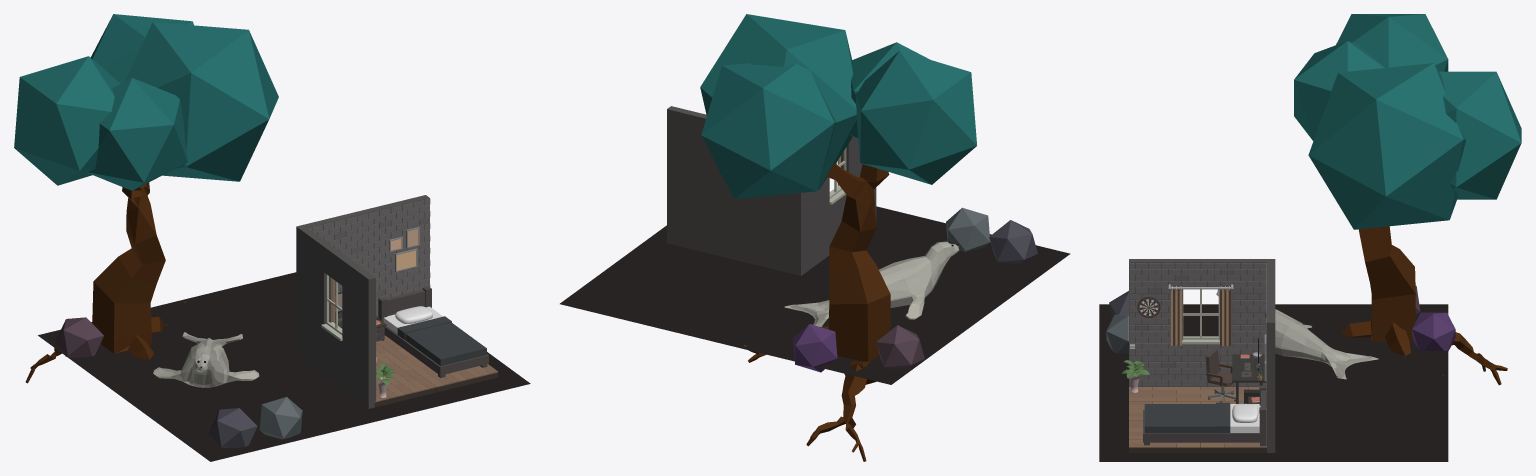
Rendered from IsolationRoom.gltf.
3 views of the same model, side by side, from view 1: azimuth 30°, elevation 25°; view 2: azimuth 150°, elevation 25°; view 3: azimuth 270°, elevation 25° (orthographic). The views are drawn at different scales.
Parts seen in each view (by area): view 1: BG, leaves1, Wall_02, leaves3, leaves4, tree, Wall_01, Bed, Floor, leaves2, Seal, leaves3.004 (+2 smaller); view 2: BG, leaves2, leaves3, Wall_01, tree, leaves1, Wall_02, Seal, leaves3.003, leaves3.001, leaves3.002, leaves3.004 (+2 smaller); view 3: BG, leaves1, Wall_02, leaves2, Bed, tree, leaves3, Floor, leaves4, Seal, Wall_01, leaves3.003 (+7 smaller).
Boxes of the visible parts, x1,y1,x2,y2 form: BG: (38, 272, 530, 461); leaves1: (125, 22, 278, 181); Wall_02: (296, 224, 376, 408); leaves3: (14, 56, 120, 185); leaves4: (87, 78, 187, 190); tree: (92, 182, 165, 353); Wall_01: (304, 195, 430, 316); Bed: (378, 286, 488, 377); Floor: (374, 335, 498, 407); leaves2: (91, 14, 193, 83); Seal: (153, 332, 259, 387); leaves3.004: (259, 397, 302, 439); BG: (560, 206, 1070, 384); leaves2: (701, 63, 835, 198); leaves3: (856, 50, 976, 184); Wall_01: (667, 106, 793, 273); tree: (826, 163, 890, 384); leaves1: (700, 14, 856, 190); Wall_02: (793, 137, 876, 275); Seal: (784, 241, 959, 326); leaves3.003: (793, 324, 837, 372); leaves3.001: (989, 220, 1037, 263); leaves3.002: (876, 325, 924, 368); leaves3.004: (946, 207, 990, 251); BG: (1099, 304, 1448, 461); leaves1: (1308, 63, 1466, 229); Wall_02: (1129, 259, 1275, 387); leaves2: (1439, 71, 1521, 199); Bed: (1143, 385, 1266, 446); tree: (1358, 226, 1415, 341); leaves3: (1336, 14, 1448, 71); Floor: (1129, 387, 1266, 452); leaves4: (1294, 41, 1385, 140); Seal: (1216, 289, 1378, 379); Wall_01: (1266, 261, 1275, 452); leaves3.003: (1412, 312, 1455, 350).
Bounding box in the file's own units: 8.29 × 7.6 × 8.04.
